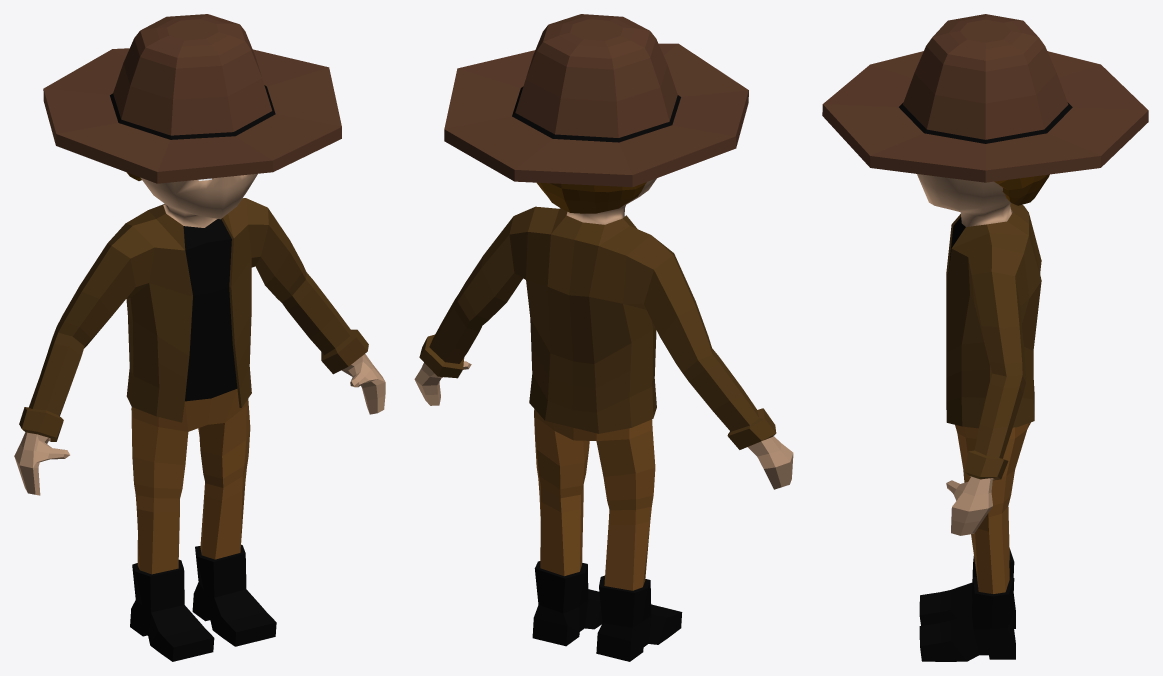
The model's file is Character.fbx.
3 renders of one model, left to right at view 1: azimuth 30°, elevation 25°; view 2: azimuth 150°, elevation 25°; view 3: azimuth 270°, elevation 25°, orthographic. The views are drawn at different scales.
Parts seen in each view (by area): view 1: Character; view 2: Character; view 3: Character.
Part boxes in pixels (<box>): Character: <box>14,14,385,661</box>; Character: <box>414,14,793,661</box>; Character: <box>822,14,1148,661</box>.
Size of the model in its own units: 607 by 954 by 466.
